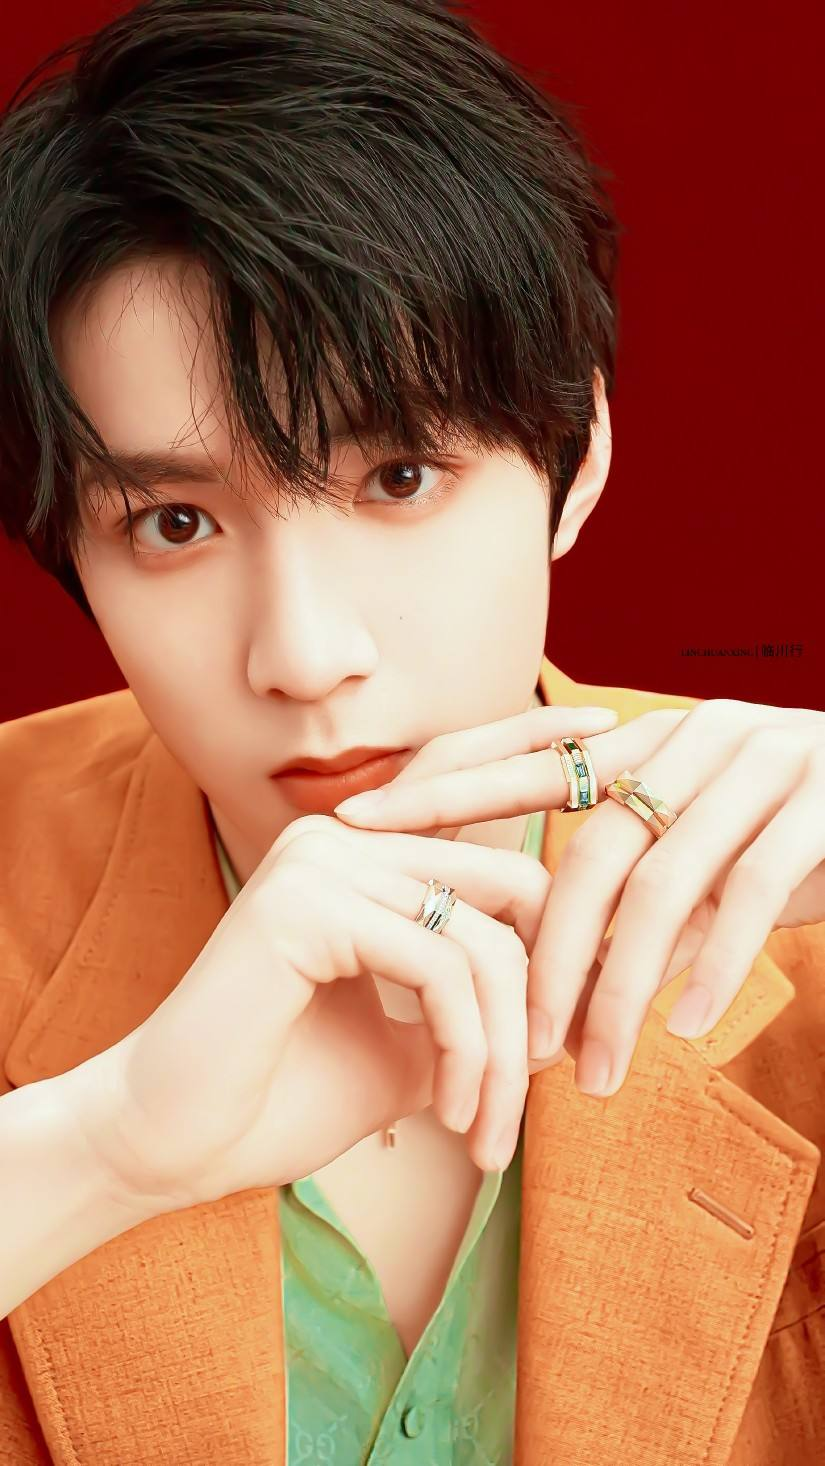person: (38, 109, 756, 1326)
